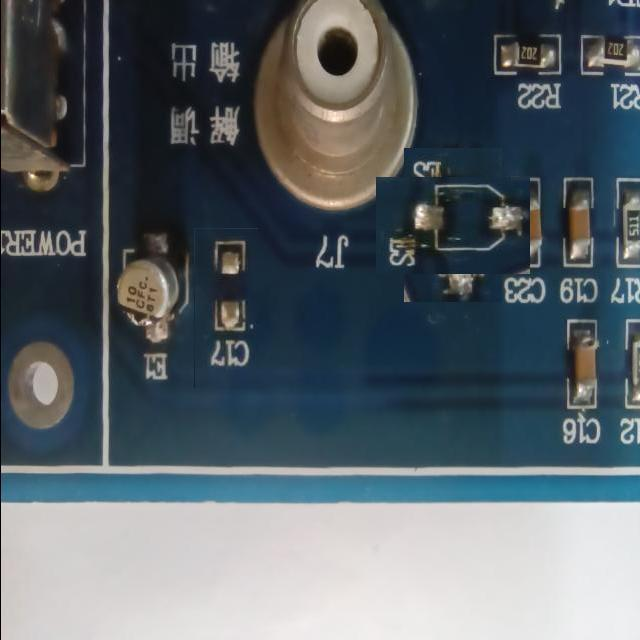miss_welding: (390, 162, 516, 288), (194, 228, 258, 388)
